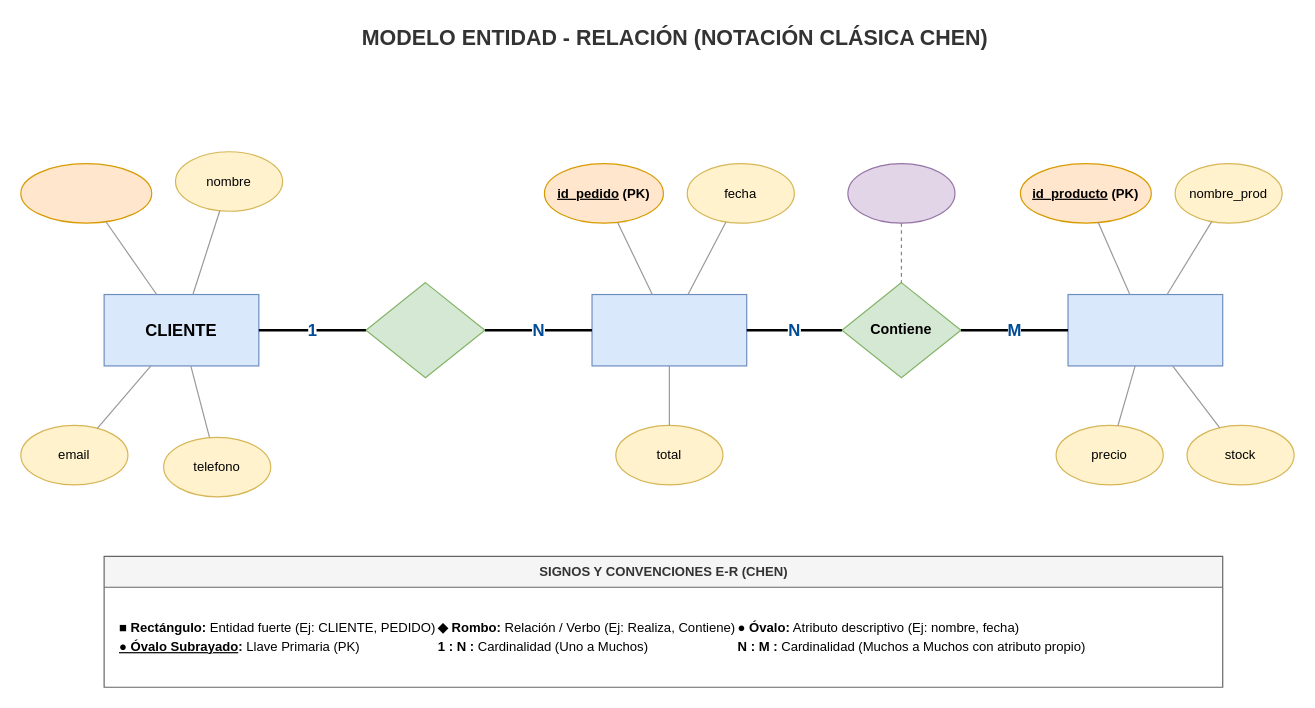
The diagram is 1315 pixels wide and 708 high, and some of its shapes have lost their labels. The centre of each missing label's shape, as x and y in pixels:
cantidad: point 901,192
id_cliente (PK): point 86,192
PEDIDO: point 669,329
PRODUCTO: point 1145,329
Realiza: point 425,329
